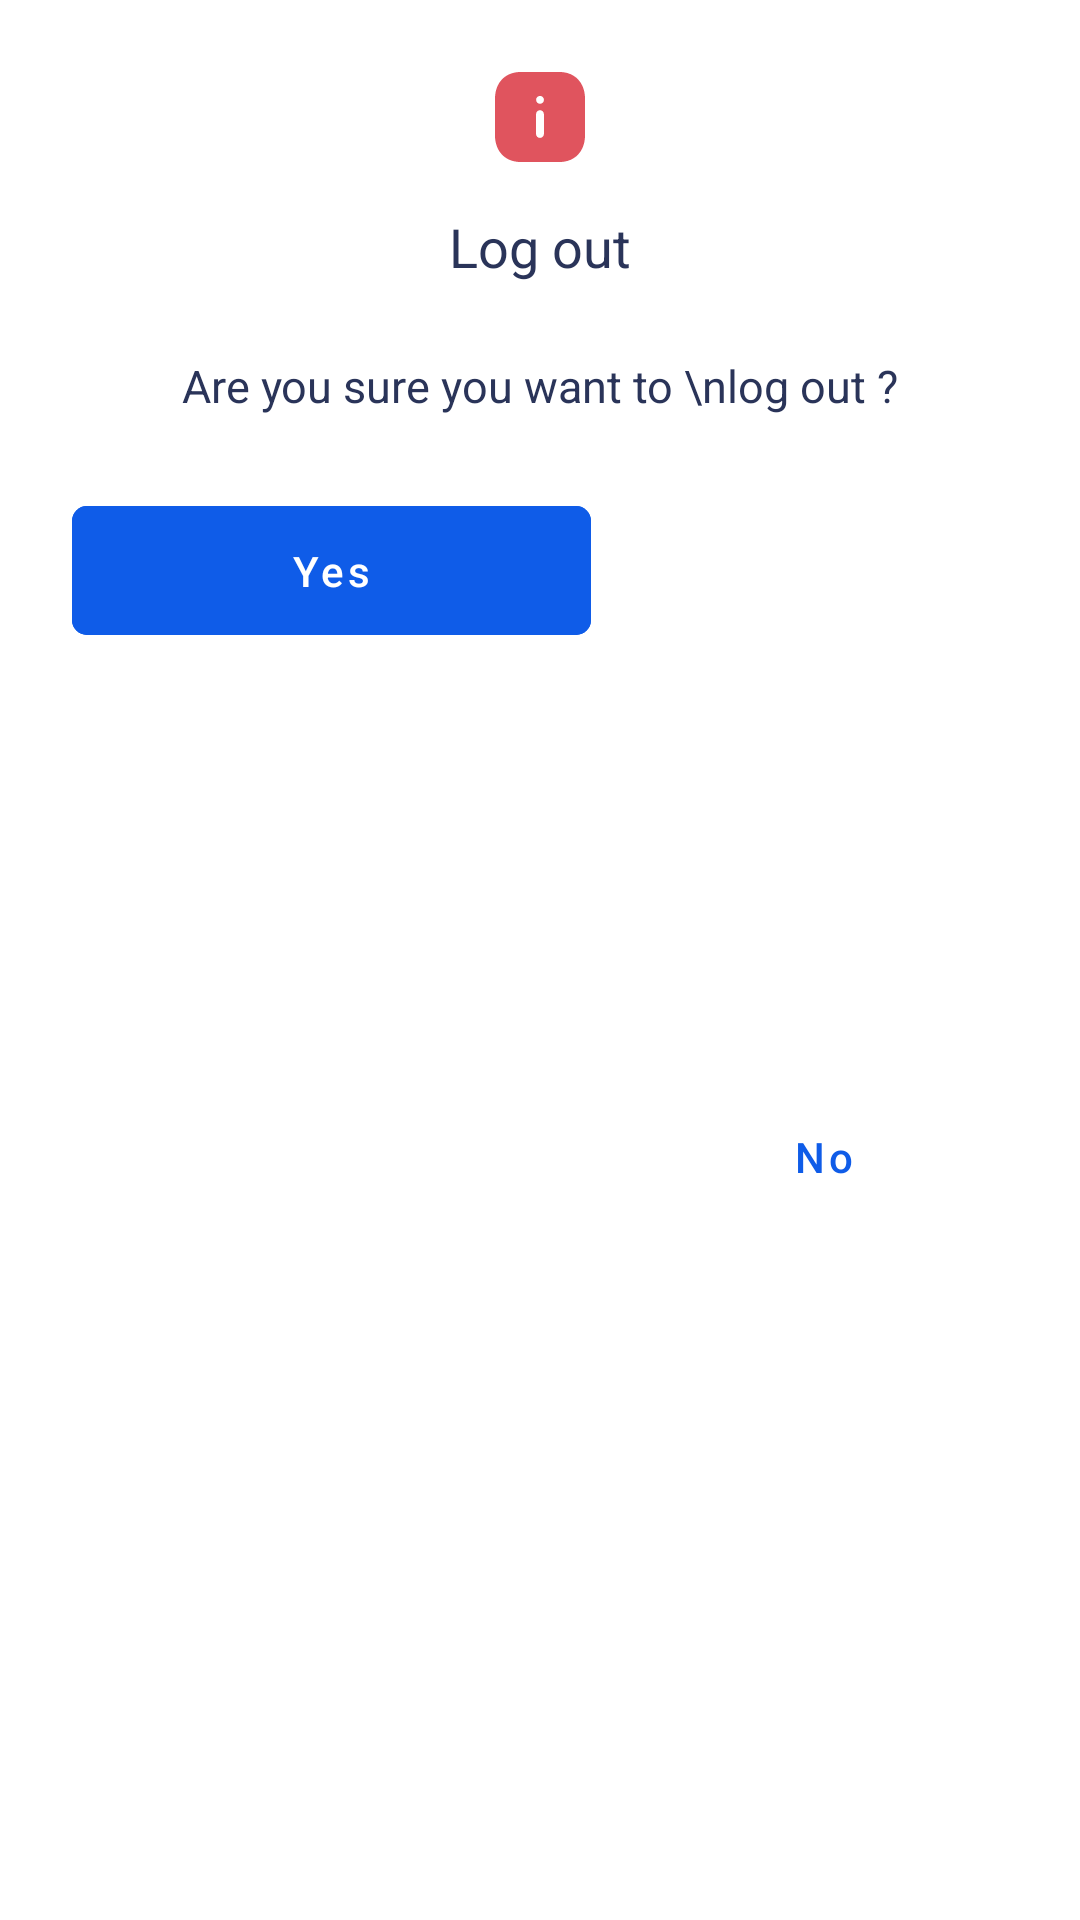

Icon click points for this 1080x1920 phone screenshot, format [x,y]:
error: [540,117]
